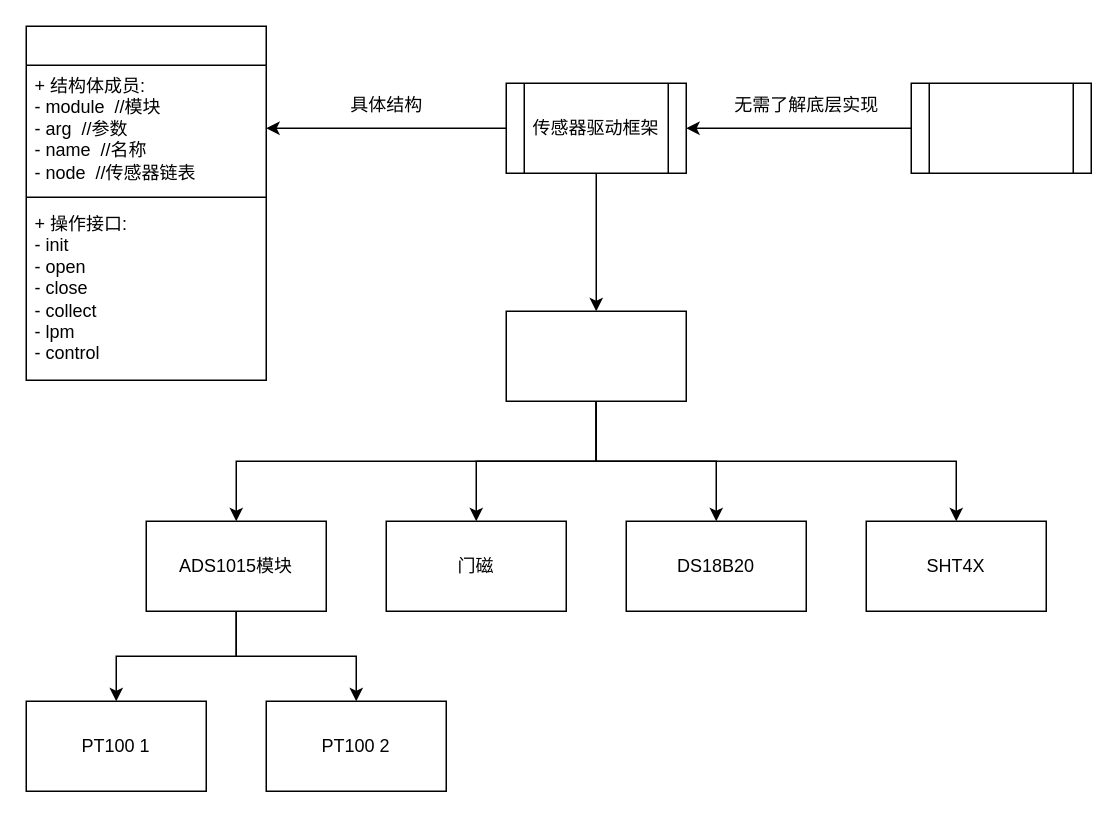
Some shapes in this 1118 by 818 pixel diagram are drawn without their labels. Here are the shapes that lost their labels. From the top down, the box of each, then its label:
(910, 82, 1091, 173): 外部调用 传感器对象
(25, 25, 266, 380): 传感器对象
(505, 310, 686, 401): 管理不同传感器
